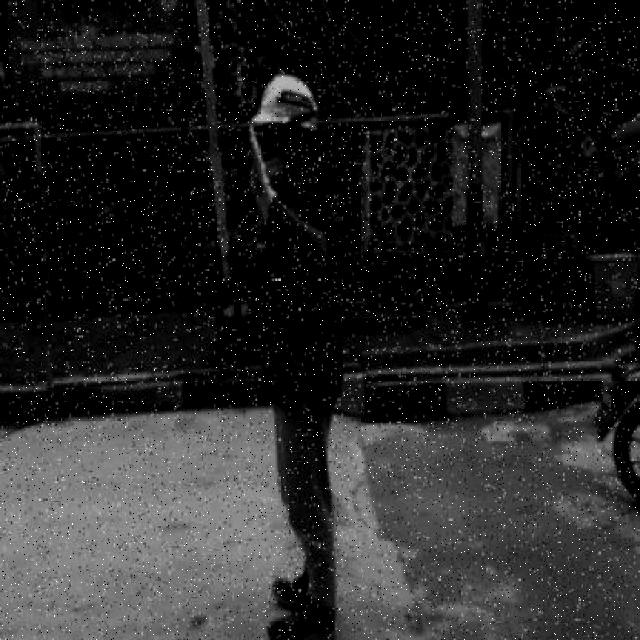Boots: (268, 596, 338, 638), (274, 566, 310, 608)
Gloves: (235, 118, 278, 226)
Helmet: (243, 68, 329, 136)
Mask: (245, 212, 358, 358)
